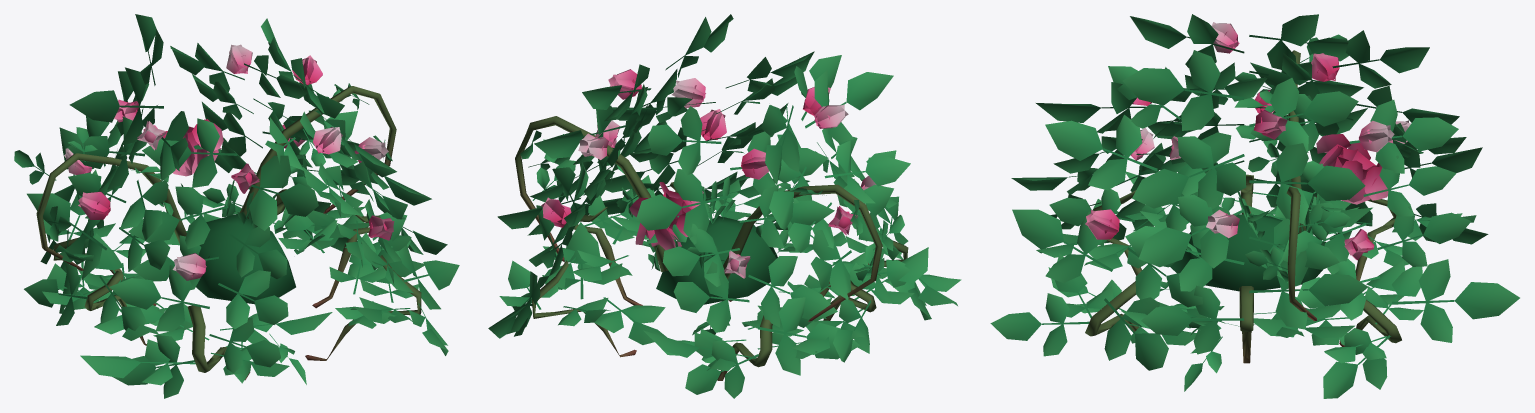
The model's file is flora_bush_rose.gltf.
3 views of the same model, side by side, from view 1: azimuth 30°, elevation 25°; view 2: azimuth 150°, elevation 25°; view 3: azimuth 270°, elevation 25° (orthographic). The views are drawn at different scales.
Parts seen in each view (by area): view 1: flora_bush_rose; view 2: flora_bush_rose; view 3: flora_bush_rose.
Boxes of the visible parts, x1,y1,x2,y2 form: flora_bush_rose: [14, 14, 459, 398]; flora_bush_rose: [488, 14, 961, 398]; flora_bush_rose: [990, 14, 1519, 398].
Size of what is drawn, in the model's own units: 0.9529 by 0.7835 by 1.1.
